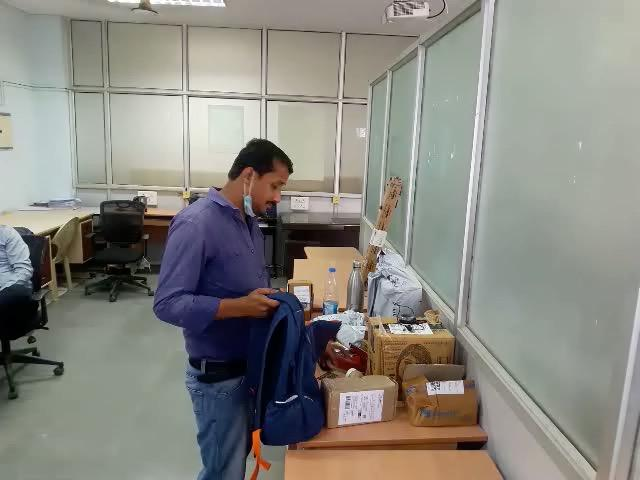Normal: (2, 80, 373, 480)
